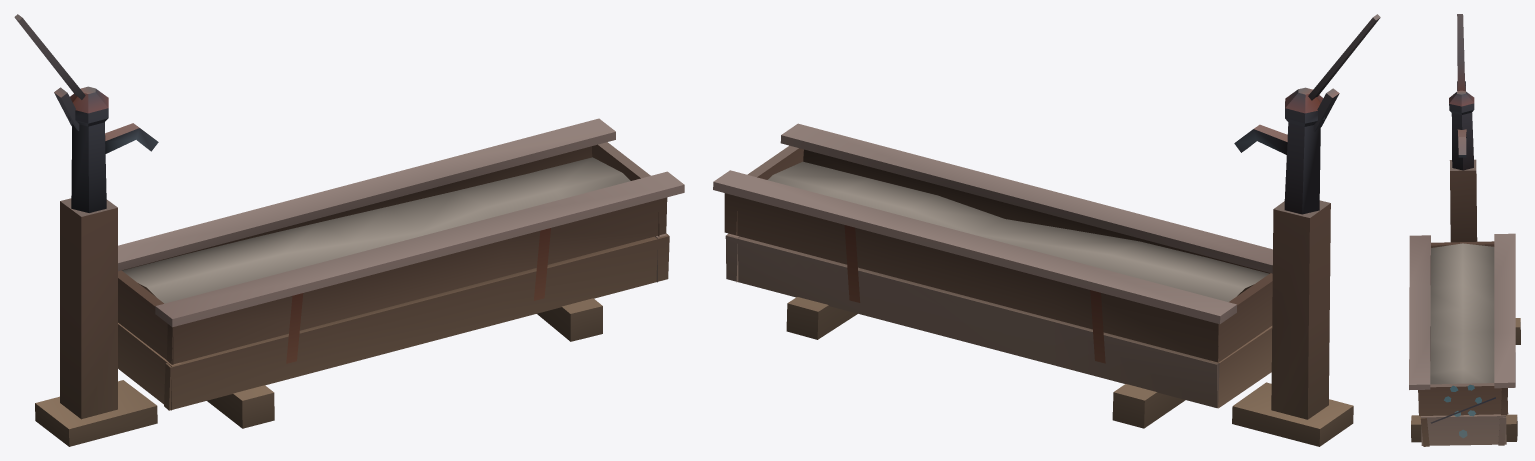
Rendered from prop_trough_pump.glb.
3 renders of one model, left to right at view 1: azimuth 30°, elevation 25°; view 2: azimuth 150°, elevation 25°; view 3: azimuth 270°, elevation 25°, orthographic. The views are drawn at different scales.
Parts seen in each view (by area): view 1: prop_trough_pump_mesh; view 2: prop_trough_pump_mesh; view 3: prop_trough_pump_mesh.
Part boxes in pixels (<box>): prop_trough_pump_mesh: <box>14,14,684,446</box>; prop_trough_pump_mesh: <box>713,14,1380,446</box>; prop_trough_pump_mesh: <box>1409,14,1520,446</box>.
Size of the model in its own units: 2.55 by 1.67 by 0.6338.
